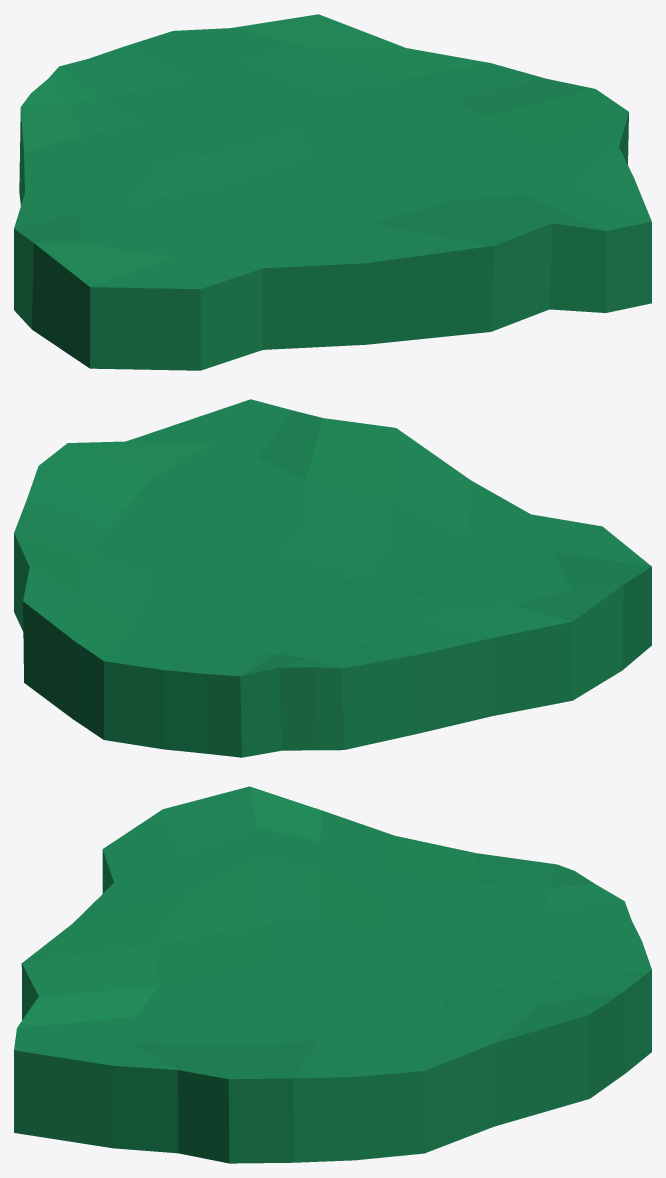
Rendered from mod_terrain01_p1.fbx.
The picture shows the model from 3 angles, top to bottom: view 1: azimuth 30°, elevation 25°; view 2: azimuth 150°, elevation 25°; view 3: azimuth 270°, elevation 25°; orthographic projection. The views are drawn at different scales.
Parts seen in each view (by area): view 1: mod_terrain01_p1; view 2: mod_terrain01_p1; view 3: mod_terrain01_p1.
Part boxes in pixels (x1,y1,x2,y2): mod_terrain01_p1: [14, 14, 651, 370]; mod_terrain01_p1: [14, 399, 651, 757]; mod_terrain01_p1: [14, 786, 651, 1163].
Bounding box in the file's own units: 2253 × 367 × 2102.
